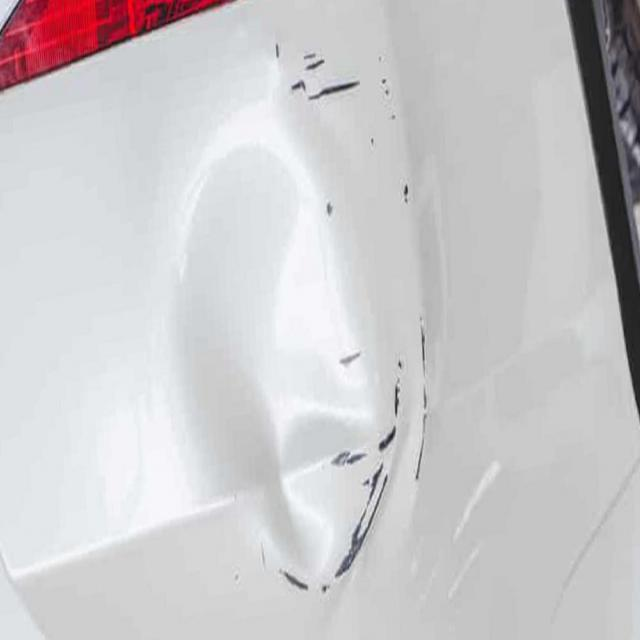dent: (158, 103, 410, 602)
